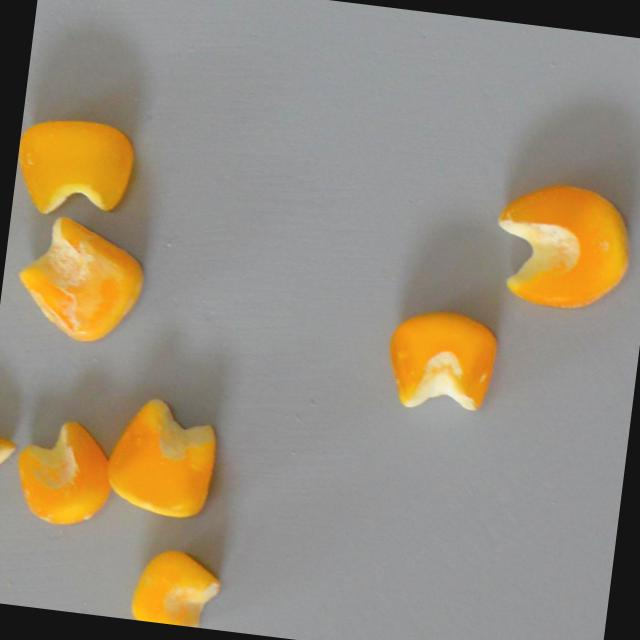no_canjicado: (487, 172, 636, 315), (99, 389, 220, 522), (12, 108, 137, 221), (380, 303, 502, 417), (128, 543, 224, 630), (0, 430, 19, 544)
pelicula: (10, 209, 151, 348), (11, 415, 118, 529)
